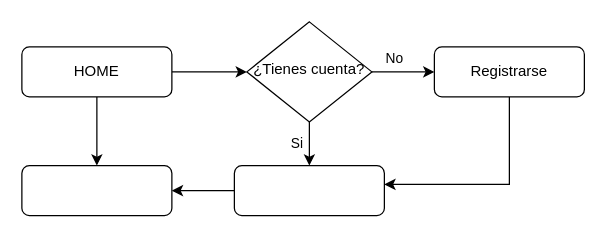
Image size: 606x238. Some labels were removed from this diagram. Here are the shapes that lost their labels. From the top down, the centre of each, then its label:
At (96,190): "Navegar con el menú".
At (308,190): "Iniciar sesion".
